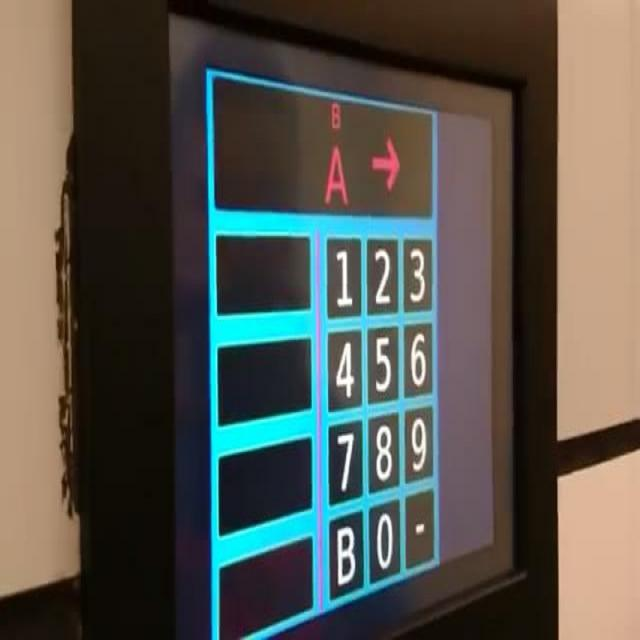-: (403, 483, 435, 569)
0: (366, 494, 402, 586)
1: (323, 231, 362, 320)
2: (364, 233, 400, 316)
3: (400, 234, 434, 314)
4: (324, 326, 363, 414)
5: (365, 322, 399, 406)
6: (401, 317, 434, 399)
7: (326, 416, 364, 507)
8: (365, 406, 400, 494)
9: (402, 401, 435, 487)
B: (326, 505, 365, 603)
led: (210, 71, 434, 221)
